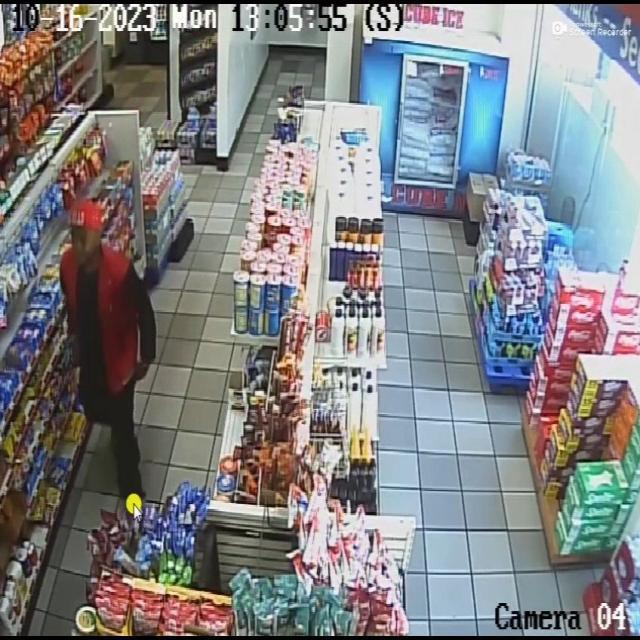Normal: (58, 183, 158, 507)
